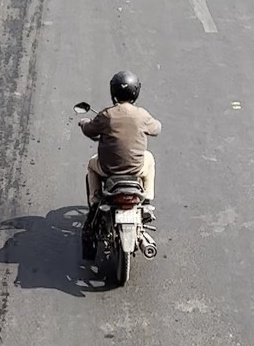BikeWithRider: (68, 65, 166, 290)
Helmet: (104, 65, 145, 108)
